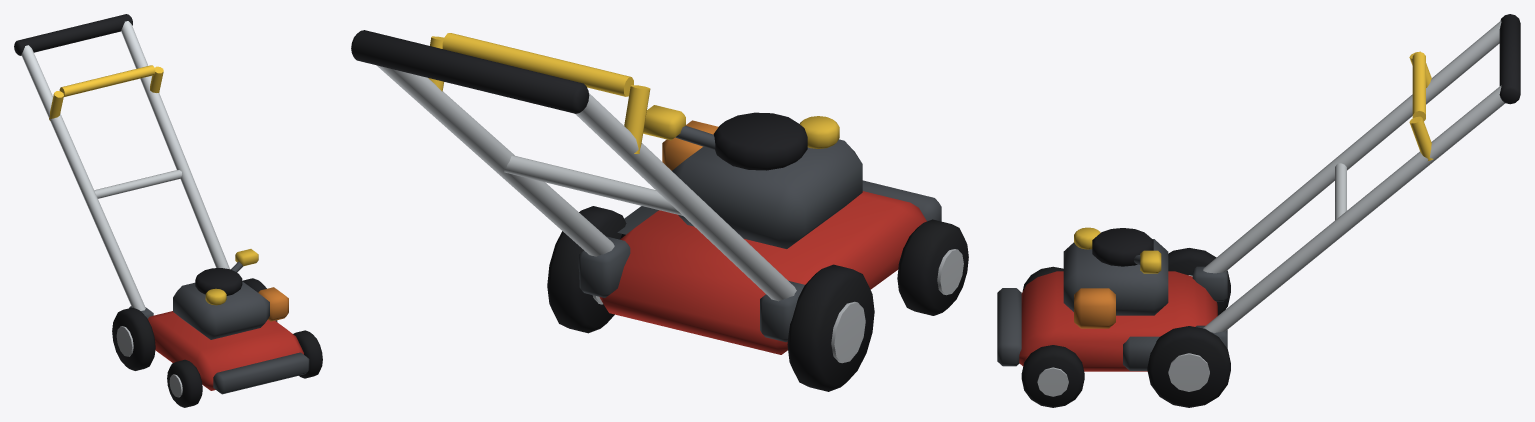
The model's file is SM_LawnMower_01.glb.
The picture shows the model from 3 angles, left to right: view 1: azimuth 30°, elevation 25°; view 2: azimuth 150°, elevation 25°; view 3: azimuth 270°, elevation 25°; orthographic projection. The views are drawn at different scales.
Visible parts, largest first — view 1: SM_LawnMower_01; view 2: SM_LawnMower_01; view 3: SM_LawnMower_01.
Part boxes in pixels (x1=…): SM_LawnMower_01: x1=14, y1=14, x2=322, y2=407; SM_LawnMower_01: x1=351, y1=30, x2=968, y2=391; SM_LawnMower_01: x1=997, y1=14, x2=1520, y2=407.
Size of the model in its own units: 0.614 by 1 by 1.5.
Materials: 1 (1 with a texture image).
